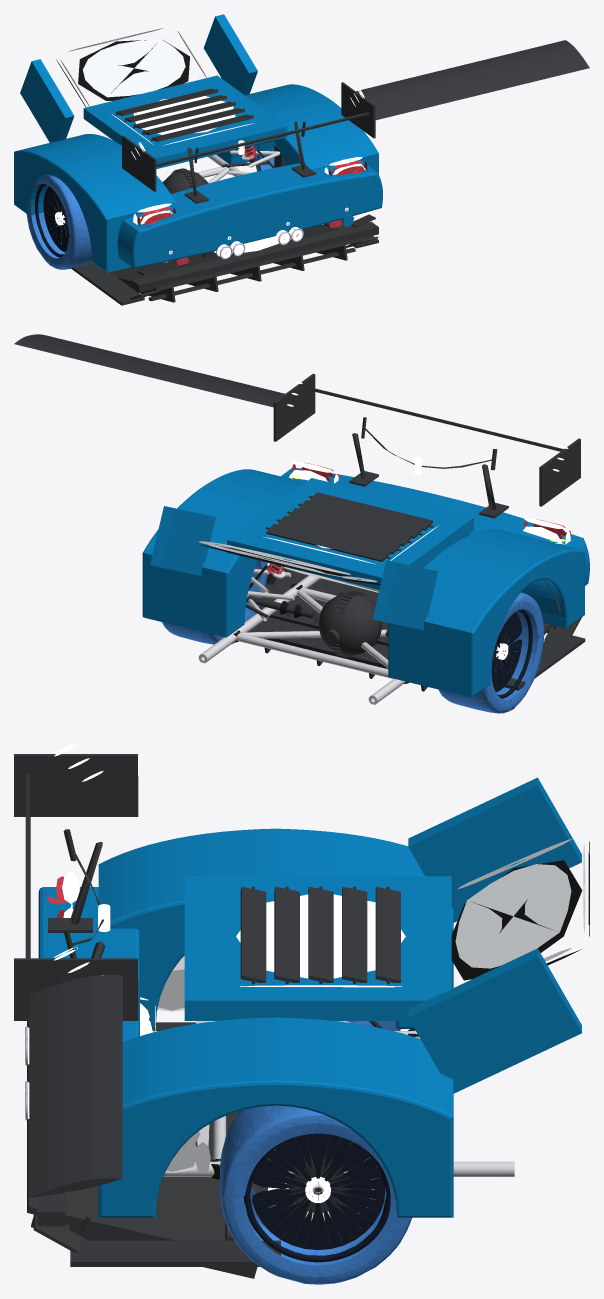
The model's file is rear_car_assembly_exploded.glb.
3 renders of one model, top to bottom at view 1: azimuth 30°, elevation 25°; view 2: azimuth 150°, elevation 25°; view 3: azimuth 270°, elevation 25°, orthographic. The views are drawn at different scales.
Parts seen in each view (by area): view 1: Fastback_C_Pillar_Buttress_LH, Adjustable_Kick_Plane_LH, Tinted_Rear_Backlite_Glass, 335_Compound_Tire_LH, Cutout_Valve_Actuator_Motor_LH, Brake_Hardline_To_Upright_LH, Forged_Wheel_Rim_Barrel_LH, Backlite_EPDM_Encapsulation_Seal, Adjustable_Spring_Perk_LH, CShaped_OLED_Taillight_Cluster_LH; view 2: Fastback_C_Pillar_Buttress_LH, Adjustable_Kick_Plane_LH, Adjustable_Spring_Perk_LH, Brake_Hardline_To_Upright_LH, 335_Compound_Tire_LH, Forged_Wheel_Rim_Barrel_LH, Cutout_Valve_Actuator_Motor_LH, Tinted_Rear_Backlite_Glass, Backlite_EPDM_Encapsulation_Seal; view 3: Fastback_C_Pillar_Buttress_LH, Adjustable_Kick_Plane_LH, Forged_Wheel_Rim_Barrel_LH, 335_Compound_Tire_LH, Tinted_Rear_Backlite_Glass, Cutout_Valve_Actuator_Motor_LH, Adjustable_Spring_Perk_LH, Backlite_EPDM_Encapsulation_Seal, Brake_Hardline_To_Upright_LH, CarbonCeramic_Brake_Rotor_LH, Centerlock_Wheel_Nut_LH.
Boxes of the visible parts, <box> form: Fastback_C_Pillar_Buttress_LH: <box>14,14,382,272</box>; Adjustable_Kick_Plane_LH: <box>34,40,589,305</box>; Tinted_Rear_Backlite_Glass: <box>60,28,206,106</box>; 335_Compound_Tire_LH: <box>26,144,274,269</box>; Cutout_Valve_Actuator_Motor_LH: <box>112,88,365,257</box>; Brake_Hardline_To_Upright_LH: <box>56,89,305,229</box>; Forged_Wheel_Rim_Barrel_LH: <box>35,184,69,257</box>; Backlite_EPDM_Encapsulation_Seal: <box>56,40,230,173</box>; Adjustable_Spring_Perk_LH: <box>161,150,280,262</box>; CShaped_OLED_Taillight_Cluster_LH: <box>137,160,367,227</box>; Fastback_C_Pillar_Buttress_LH: <box>142,468,589,697</box>; Adjustable_Kick_Plane_LH: <box>14,334,585,691</box>; Adjustable_Spring_Perk_LH: <box>198,566,405,704</box>; Brake_Hardline_To_Upright_LH: <box>245,417,556,666</box>; 335_Compound_Tire_LH: <box>162,560,544,713</box>; Forged_Wheel_Rim_Barrel_LH: <box>491,609,532,698</box>; Cutout_Valve_Actuator_Motor_LH: <box>263,380,570,564</box>; Tinted_Rear_Backlite_Glass: <box>199,541,377,582</box>; Backlite_EPDM_Encapsulation_Seal: <box>199,544,409,683</box>; Fastback_C_Pillar_Buttress_LH: <box>38,777,581,1217</box>; Adjustable_Kick_Plane_LH: <box>14,754,400,1278</box>; Forged_Wheel_Rim_Barrel_LH: <box>243,1133,390,1262</box>; 335_Compound_Tire_LH: <box>220,1021,411,1284</box>; Tinted_Rear_Backlite_Glass: <box>455,839,585,968</box>; Cutout_Valve_Actuator_Motor_LH: <box>25,742,405,1188</box>; Adjustable_Spring_Perk_LH: <box>152,956,514,1176</box>; Backlite_EPDM_Encapsulation_Seal: <box>211,841,589,1179</box>; Brake_Hardline_To_Upright_LH: <box>63,829,389,1231</box>; CarbonCeramic_Brake_Rotor_LH: <box>266,1137,370,1234</box>; Centerlock_Wheel_Nut_LH: <box>98,904,330,1203</box>.
Bounding box in the file's own units: 3.65 × 1.39 × 2.05.
